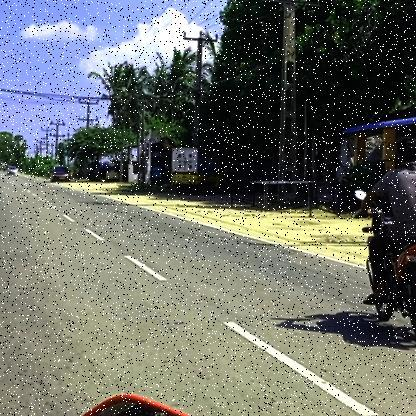motorcycle: (349, 184, 416, 350)
